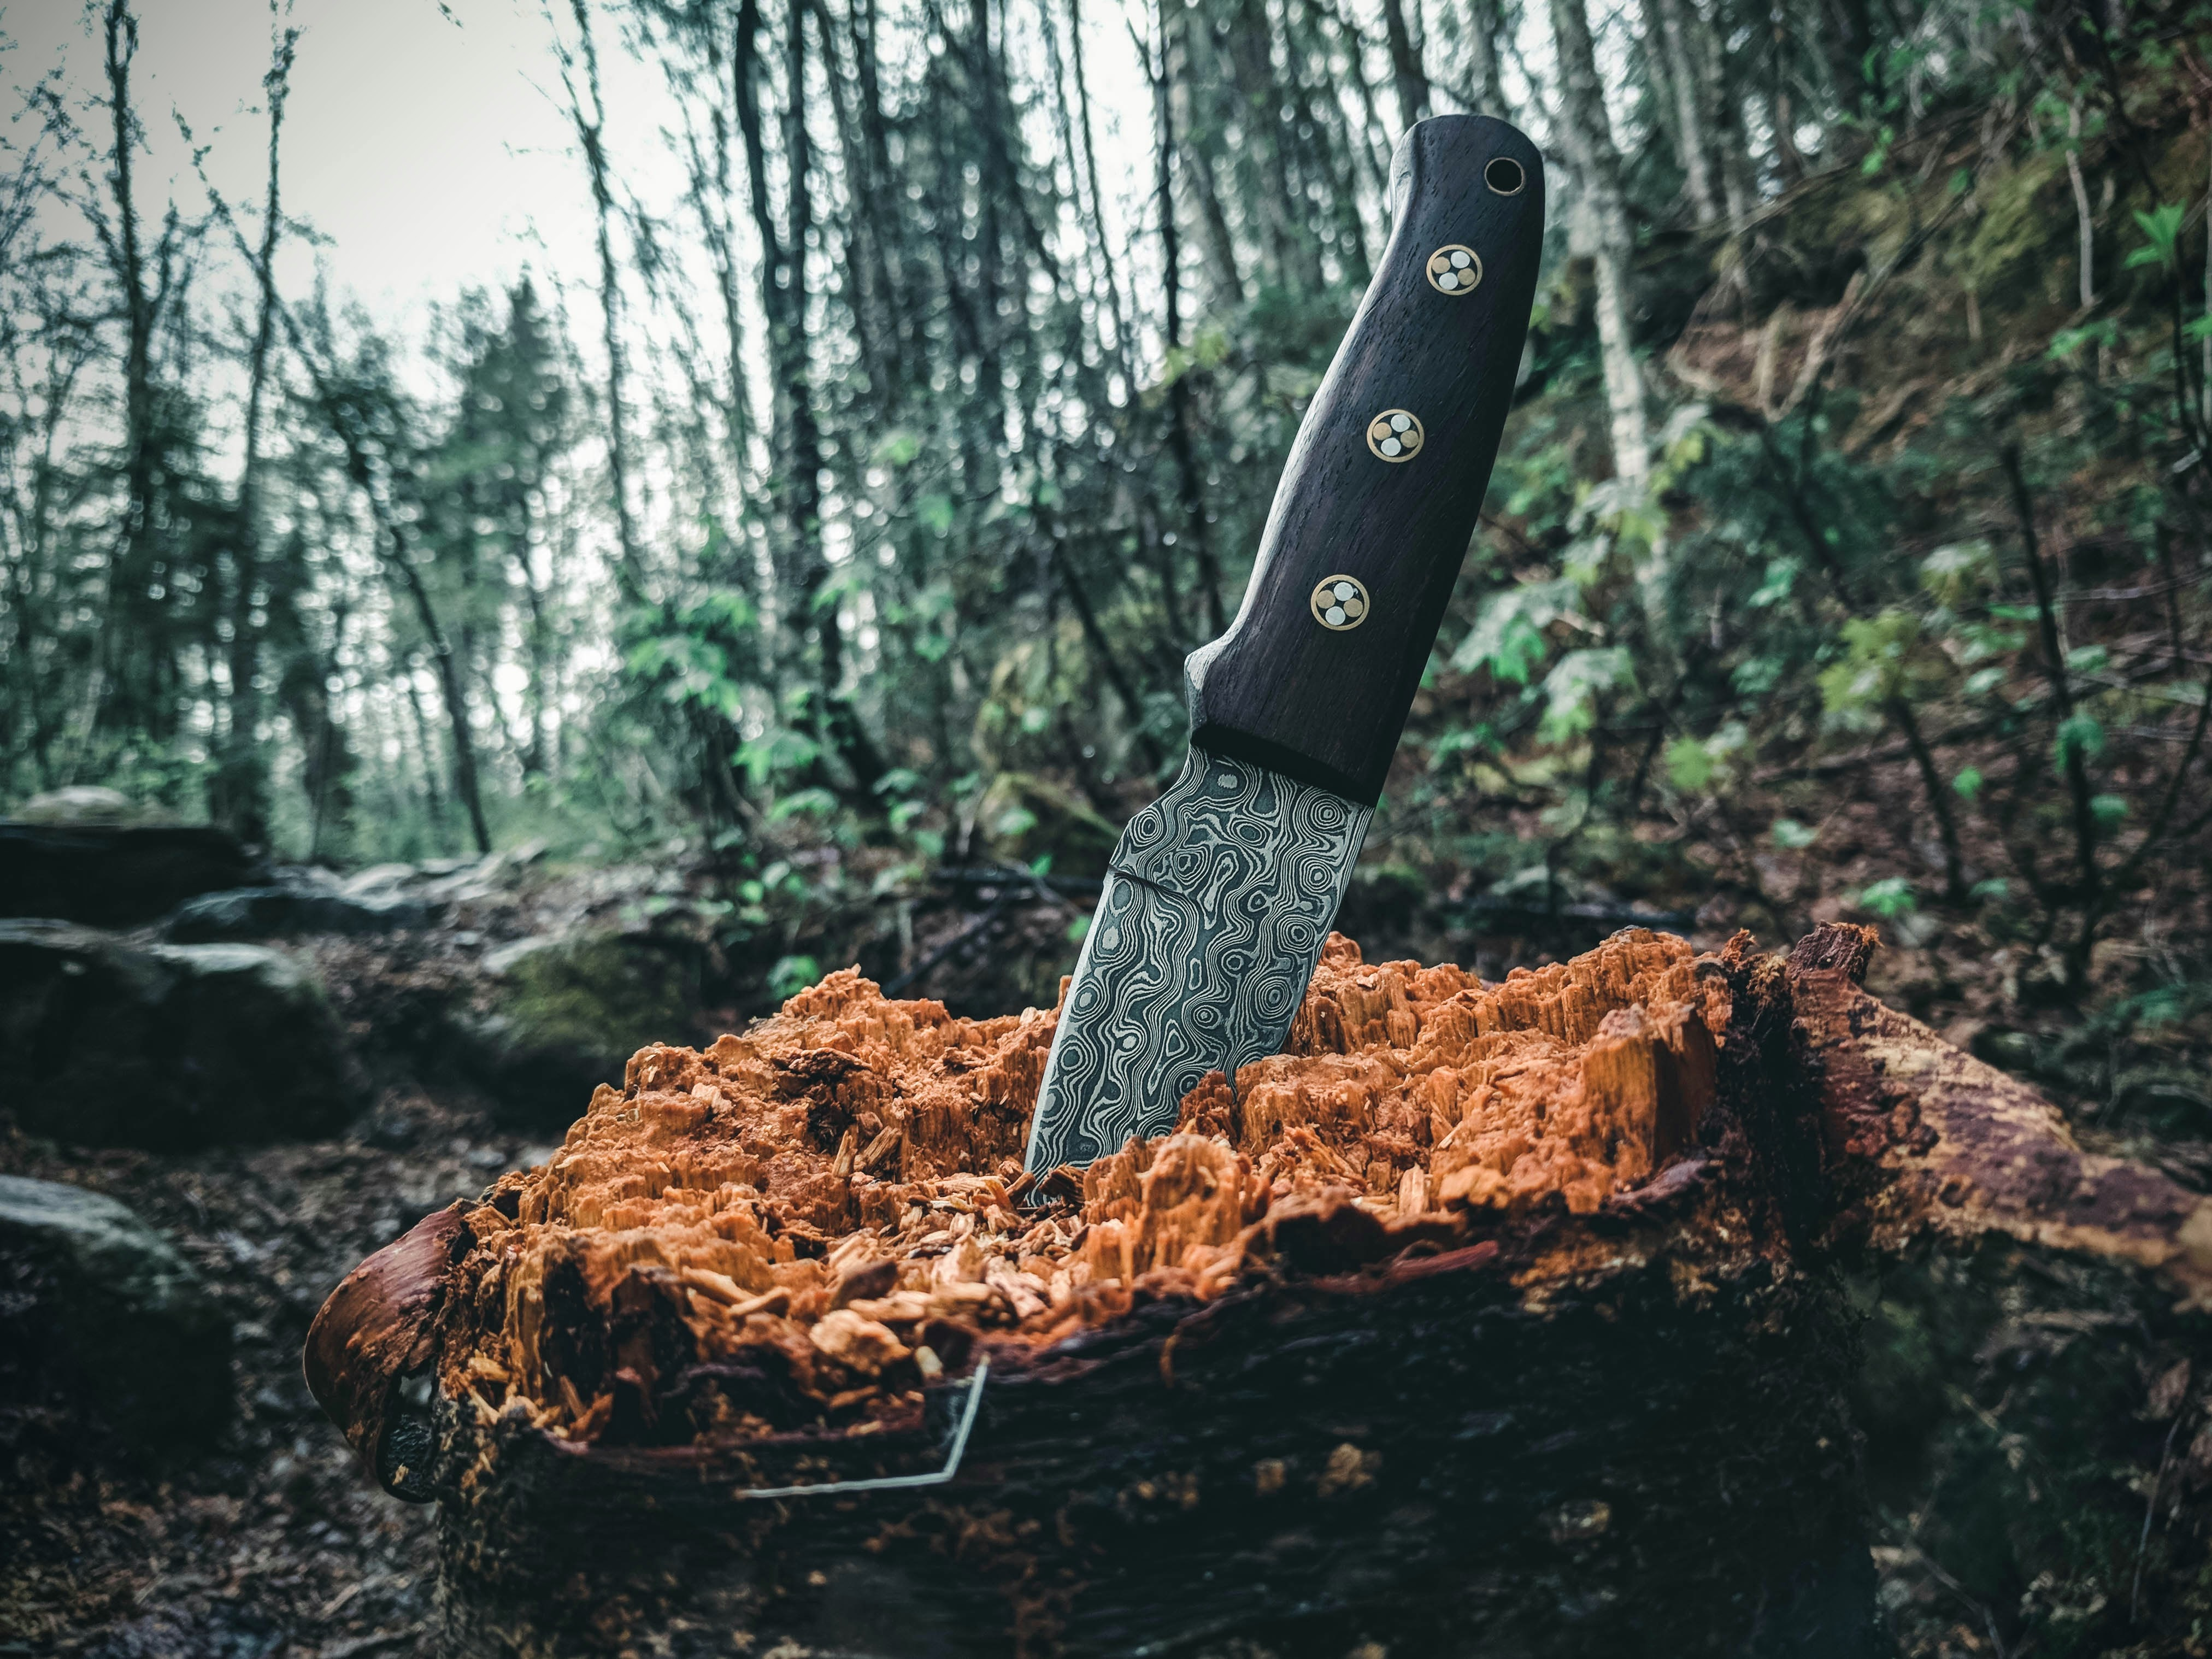knife: (1003, 105, 1637, 1281)
